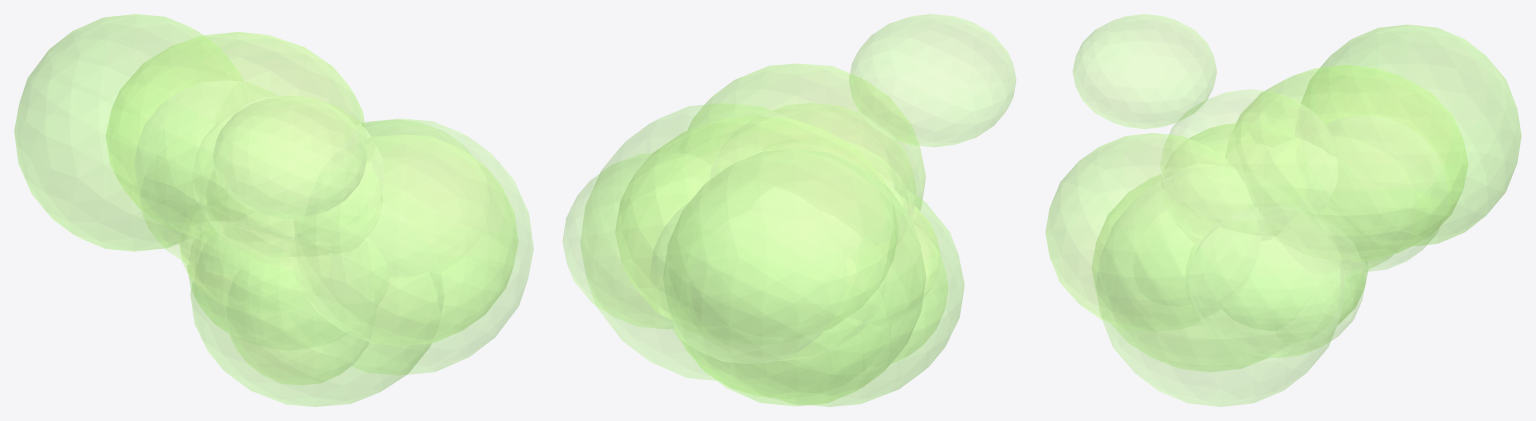
File: gas_cloud.glb
3 renders of one model, left to right at view 1: azimuth 30°, elevation 25°; view 2: azimuth 150°, elevation 25°; view 3: azimuth 270°, elevation 25°, orthographic. The views are drawn at different scales.
Parts seen in each view (by area): view 1: gas_cloud_10, gas_cloud_8, gas_cloud_6, gas_cloud_2, gas_cloud_5, gas_cloud_7, gas_cloud_3, gas_cloud_11, gas_cloud_0, gas_cloud_9, gas_cloud_4, gas_cloud_13 (+2 smaller); view 2: gas_cloud_10, gas_cloud_2, gas_cloud_7, gas_cloud_8, gas_cloud_5, gas_cloud_6, gas_cloud_1, gas_cloud_9, gas_cloud_13, gas_cloud_4, gas_cloud_3, gas_cloud_0 (+1 smaller); view 3: gas_cloud_5, gas_cloud_2, gas_cloud_8, gas_cloud_10, gas_cloud_1, gas_cloud_7, gas_cloud_6, gas_cloud_13, gas_cloud_0, gas_cloud_9, gas_cloud_4.
Boxes of the visible parts, x1,y1,x2,y2 form: gas_cloud_10: [14, 14, 251, 251]; gas_cloud_8: [295, 134, 518, 345]; gas_cloud_6: [190, 223, 444, 406]; gas_cloud_2: [106, 32, 366, 238]; gas_cloud_5: [352, 118, 533, 374]; gas_cloud_7: [213, 96, 366, 218]; gas_cloud_3: [225, 270, 368, 384]; gas_cloud_11: [179, 203, 299, 313]; gas_cloud_0: [207, 169, 382, 258]; gas_cloud_9: [187, 239, 318, 350]; gas_cloud_4: [135, 81, 277, 235]; gas_cloud_13: [192, 96, 383, 234]; gas_cloud_10: [663, 149, 925, 406]; gas_cloud_2: [615, 115, 898, 344]; gas_cloud_7: [849, 14, 1016, 146]; gas_cloud_8: [687, 63, 925, 210]; gas_cloud_5: [580, 103, 770, 380]; gas_cloud_6: [781, 192, 964, 406]; gas_cloud_1: [562, 153, 670, 328]; gas_cloud_9: [682, 327, 868, 398]; gas_cloud_13: [710, 103, 916, 216]; gas_cloud_4: [650, 203, 821, 363]; gas_cloud_3: [891, 256, 947, 363]; gas_cloud_0: [754, 141, 909, 213]; gas_cloud_5: [1096, 167, 1345, 406]; gas_cloud_2: [1225, 65, 1468, 262]; gas_cloud_8: [1045, 133, 1259, 331]; gas_cloud_10: [1295, 24, 1521, 246]; gas_cloud_1: [1188, 205, 1365, 357]; gas_cloud_7: [1073, 14, 1216, 128]; gas_cloud_6: [1092, 174, 1278, 371]; gas_cloud_13: [1160, 89, 1323, 178]; gas_cloud_0: [1162, 122, 1305, 235]; gas_cloud_9: [1271, 242, 1367, 343]; gas_cloud_4: [1326, 116, 1448, 271].
Bounding box in the file's own units: 1.52 × 1.25 × 1.74.
